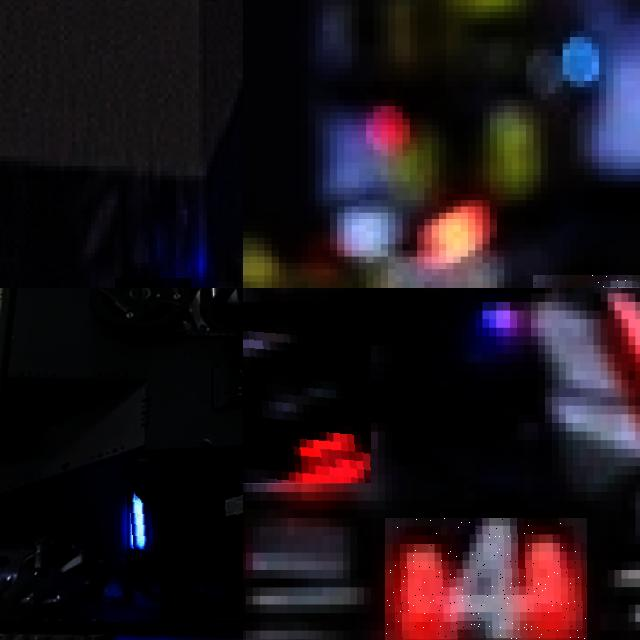B1: (127, 473, 243, 576)
R4: (385, 518, 586, 640), (243, 301, 371, 483)
